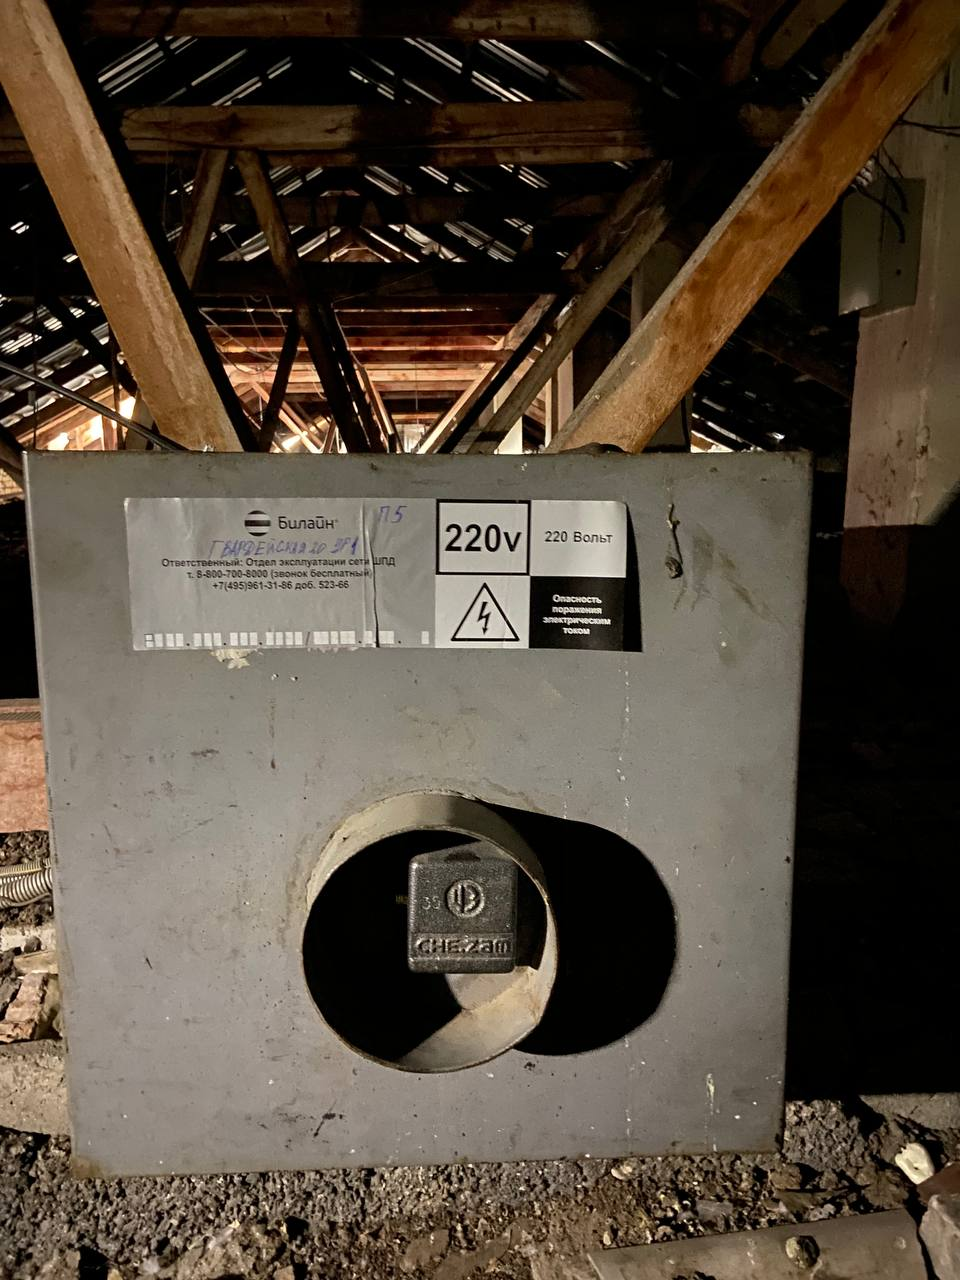shta-9: (11, 434, 826, 1187)
